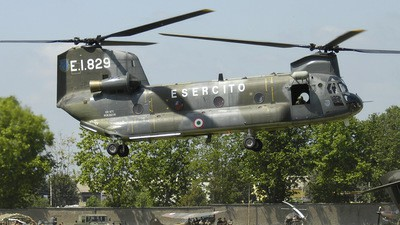chinook: (30, 13, 370, 152)
